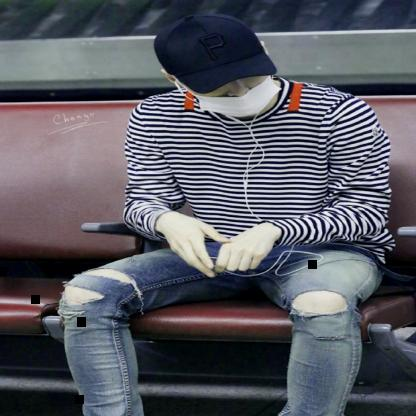mask: (148, 13, 289, 120)
